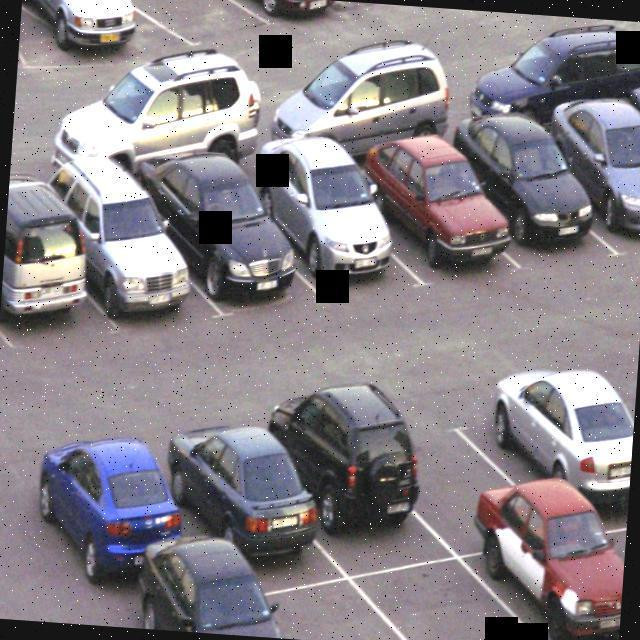car: (250, 388, 430, 574), (150, 410, 324, 595), (25, 432, 204, 608), (488, 364, 637, 534), (63, 194, 204, 350), (161, 184, 309, 322), (488, 500, 627, 640), (261, 179, 409, 310), (474, 152, 616, 281), (0, 207, 100, 364), (374, 173, 496, 291), (132, 554, 276, 637), (568, 139, 640, 264), (40, 0, 144, 61)
free: (368, 376, 518, 560), (394, 545, 523, 640), (263, 552, 398, 640), (148, 0, 252, 46)
